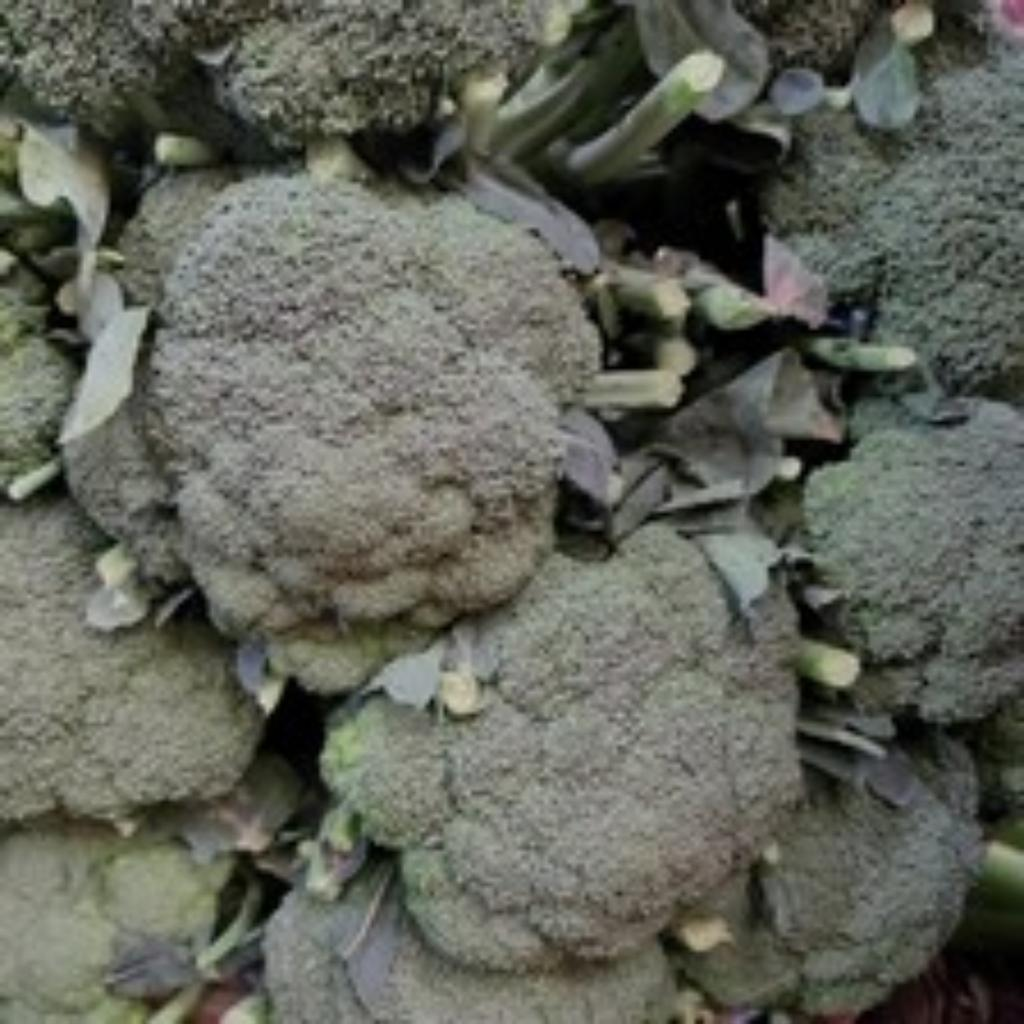Broccoli: (134, 178, 598, 691), (136, 178, 598, 691), (322, 522, 800, 969), (322, 522, 800, 967), (0, 492, 264, 821), (0, 492, 262, 821), (766, 66, 1024, 393), (766, 66, 1024, 393), (676, 734, 976, 1013), (678, 756, 980, 1013), (804, 400, 1024, 723), (804, 400, 1024, 723), (266, 862, 676, 1024), (266, 862, 676, 1024), (0, 824, 234, 1023), (0, 824, 232, 1023)
